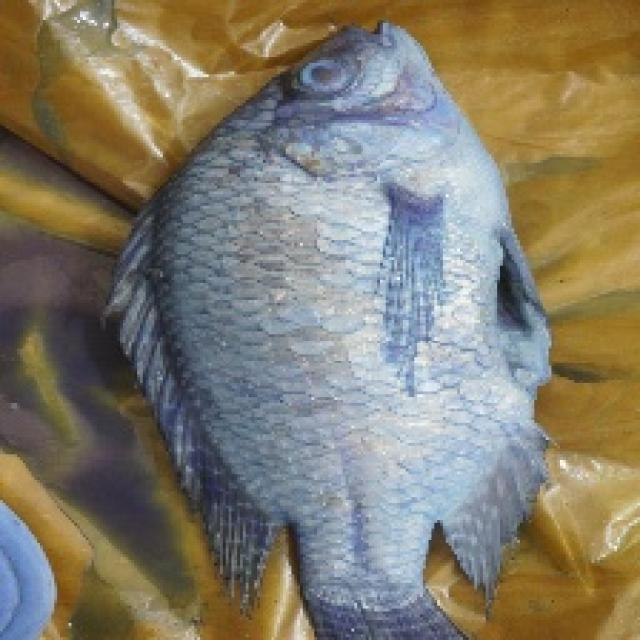Non-Fresh: (184, 108, 528, 566), (298, 50, 364, 106)
